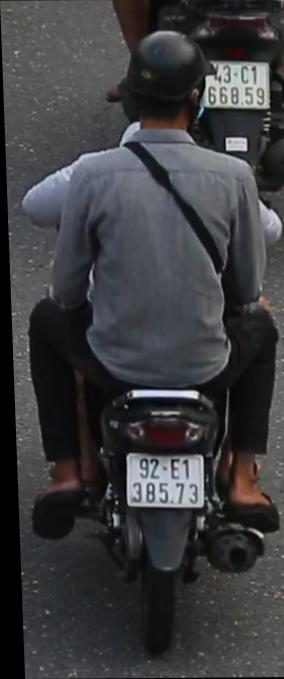LP: (117, 443, 207, 513)
helmet: (117, 25, 219, 154)
